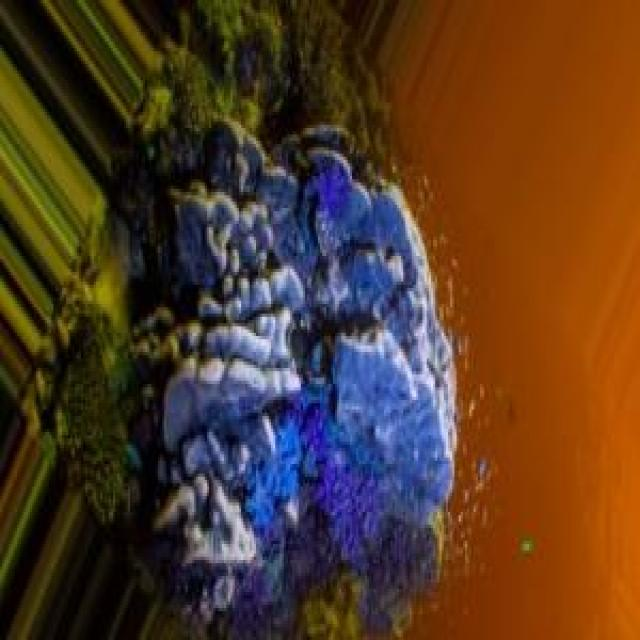Healthy: (56, 7, 460, 640), (300, 155, 449, 539), (167, 135, 304, 337), (146, 462, 259, 622), (180, 311, 300, 433)
